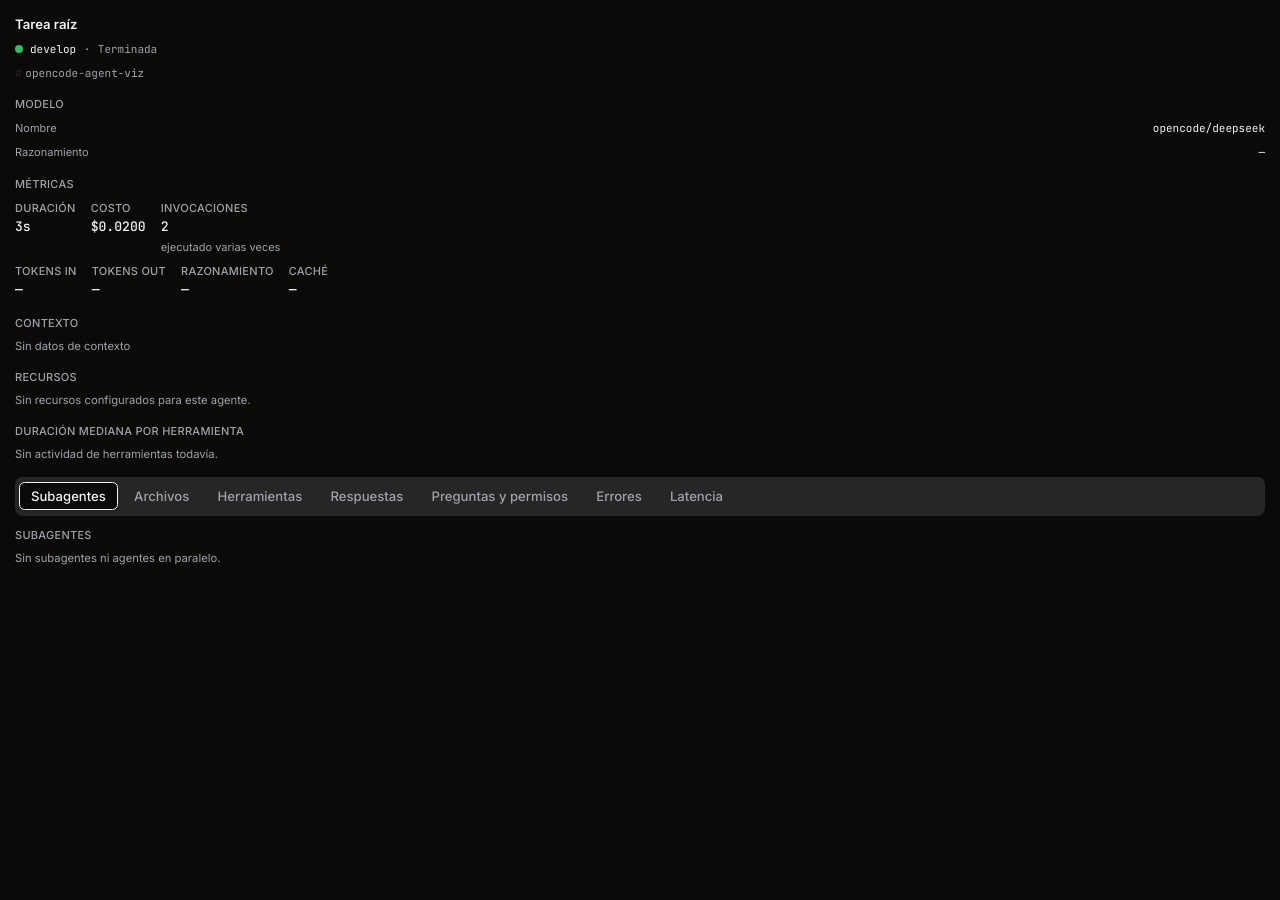
Scenario: InspectorPanel › keeps the measured answers, anomalies and threshold in the Latencia tab (FR-018..FR-023)
The image size is (1280, 900).
Expected: the text "Respuestas lentas" is not shown
Click the tab "Latencia": (696, 496) [658, 482, 735, 510]
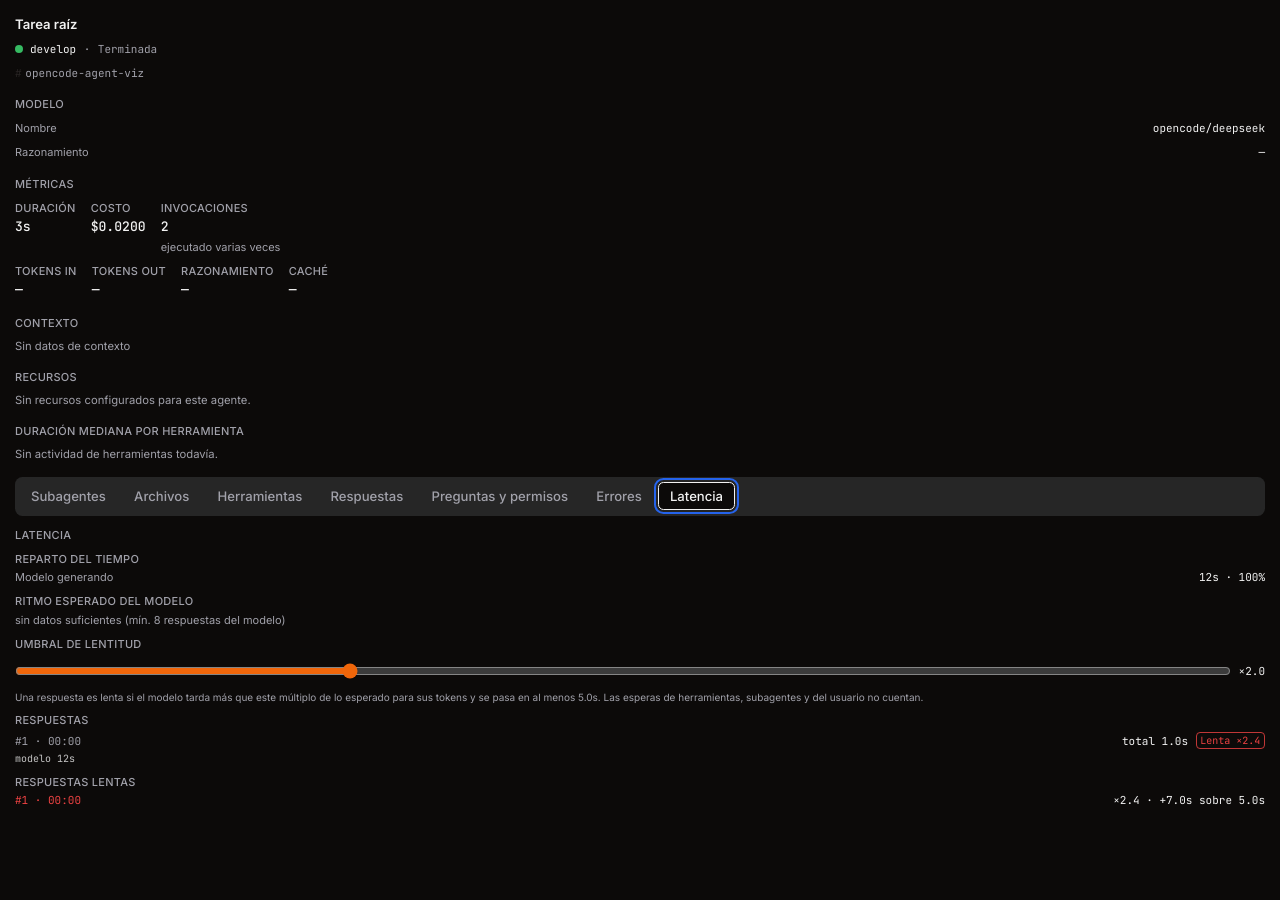
Expected: the element with test id "latency-section" shows "Latencia", [15, 528, 71, 542]
Expected: the text "Respuestas" is shown, [15, 713, 89, 727]
Expected: the text "Respuestas lentas" is shown, [15, 775, 136, 789]
